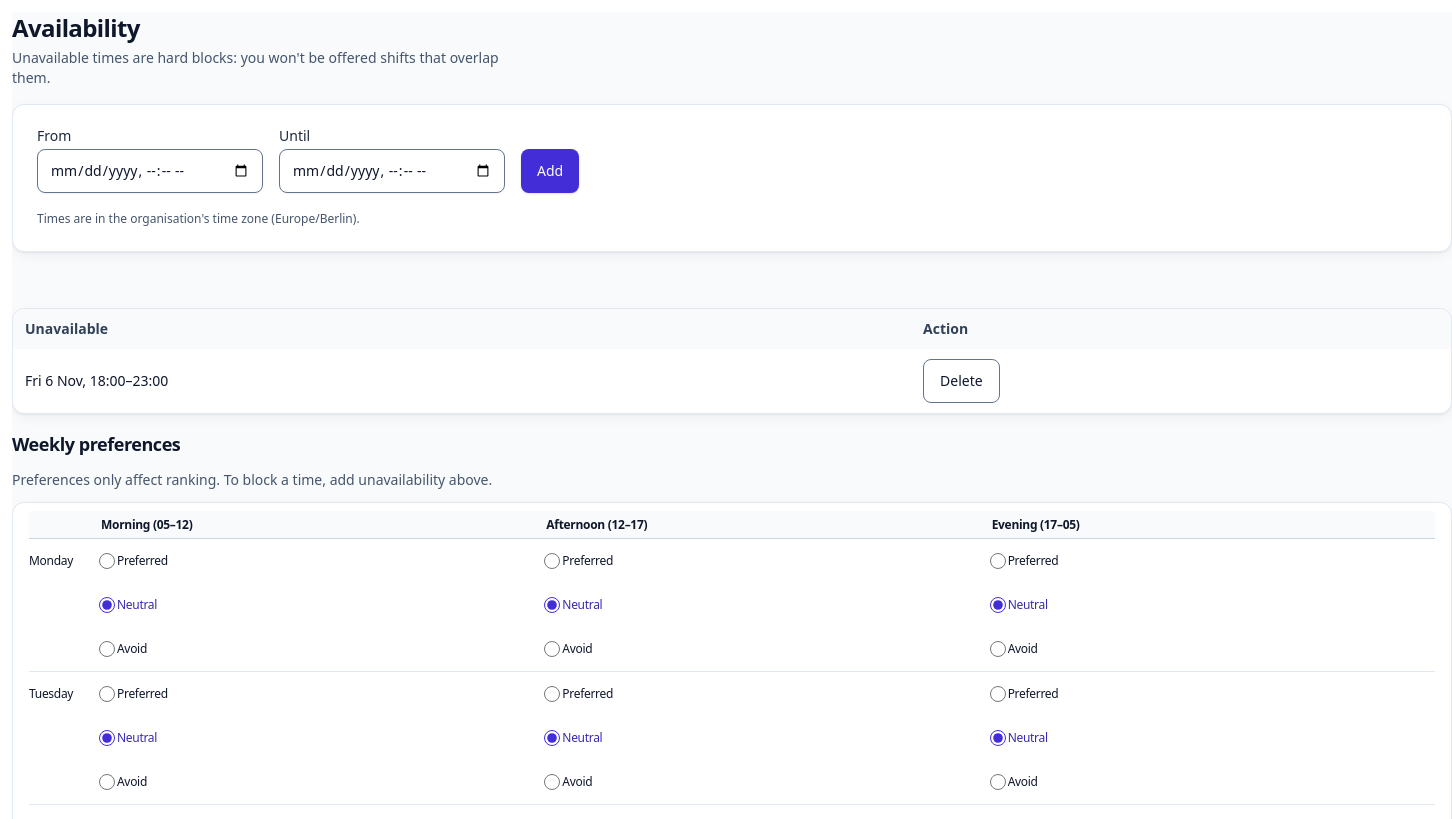
it: AvailabilityPage › shows End must be after start and does not post
Type "2026-11-10T18:00" into the field labelled "From" at {"x": 150, "y": 171}, box [37,149,263,193]
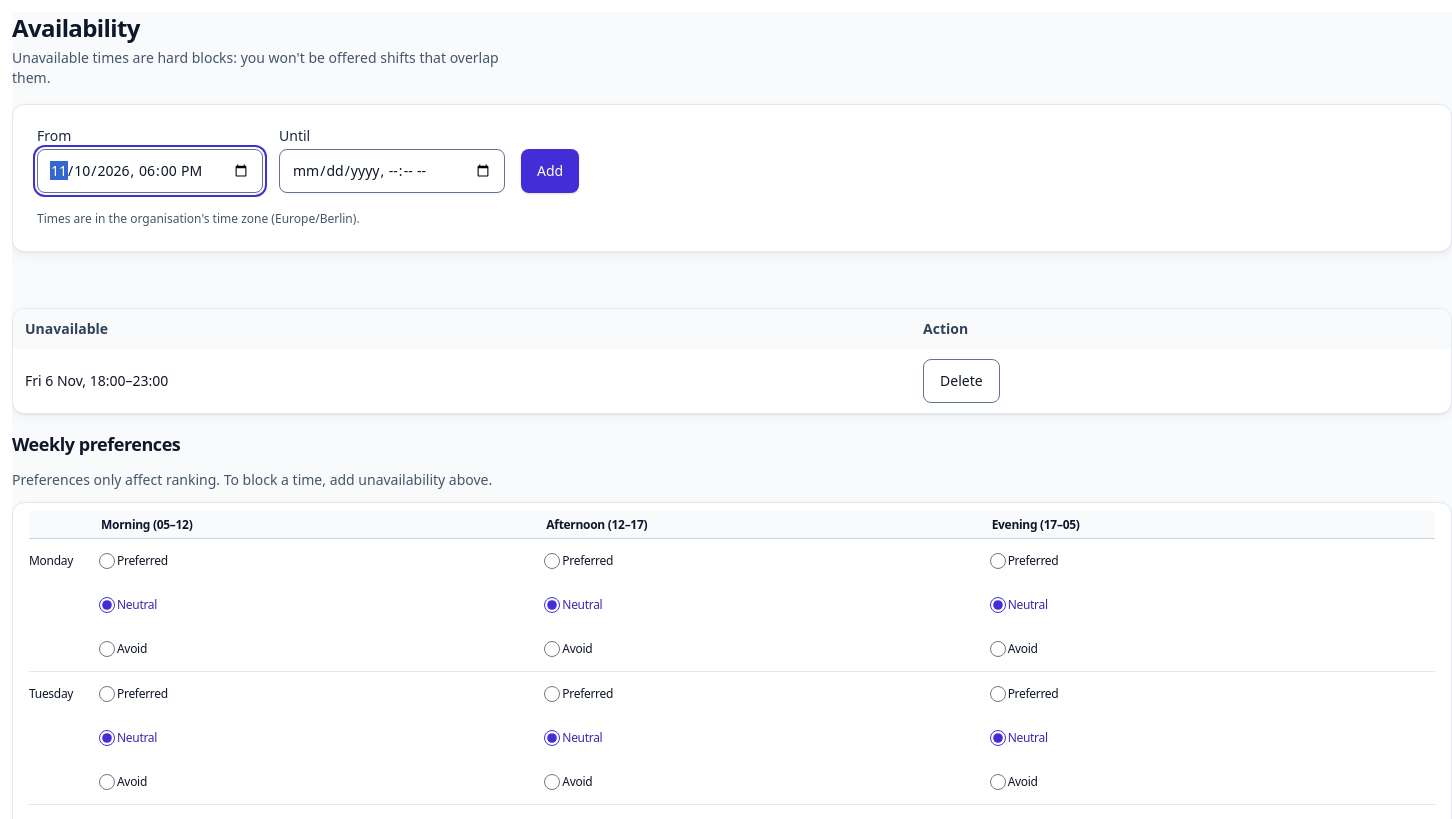
Type "2026-11-10T09:00" into the field labelled "Until" at {"x": 392, "y": 171}, box [279,149,505,193]
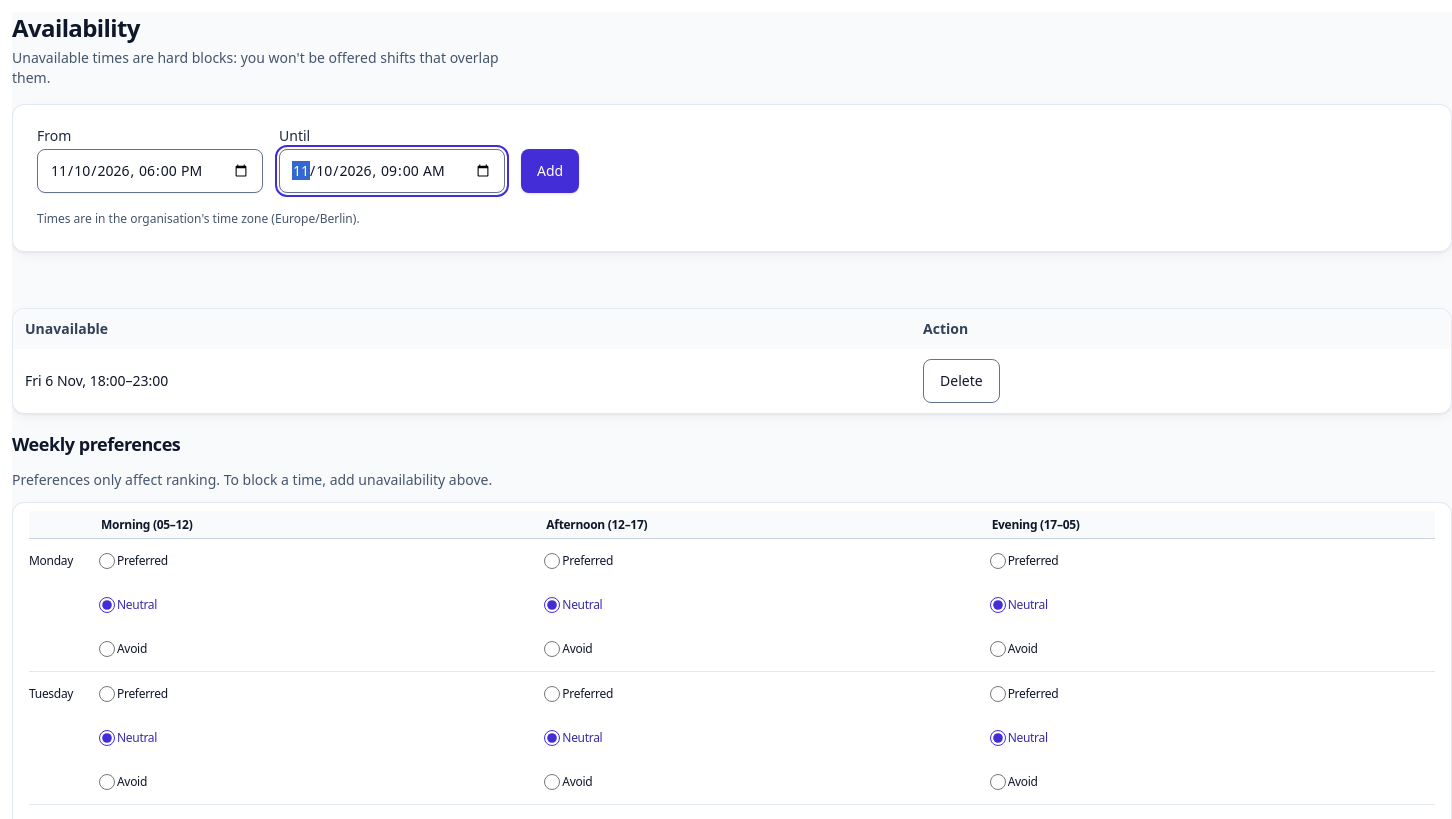
Click the button "Add" at {"x": 550, "y": 171}, box [521,149,579,193]
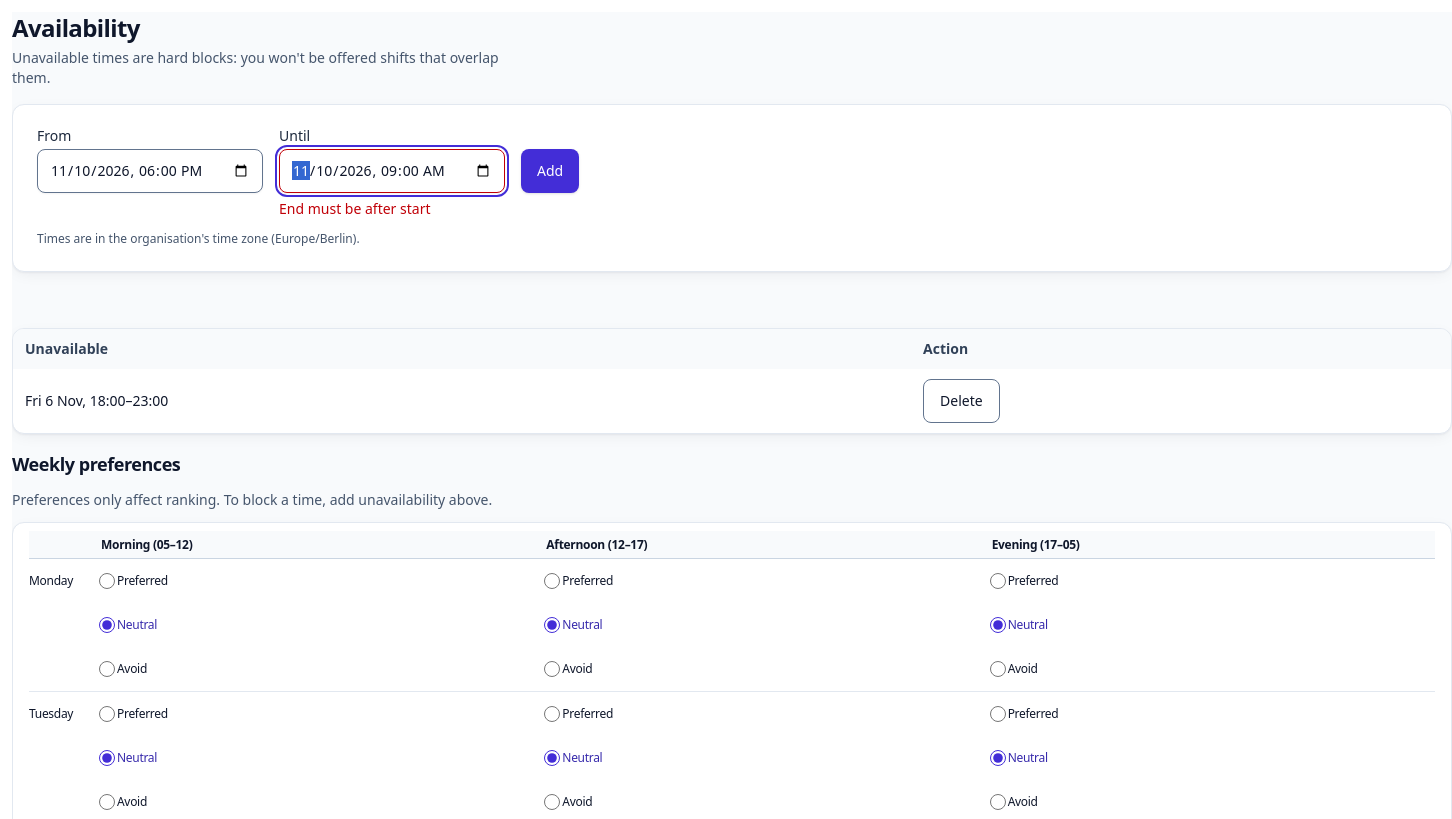
Result: the text "End must be after start" is shown at [279,199,430,218]
